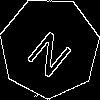N: (24, 22, 80, 80)
